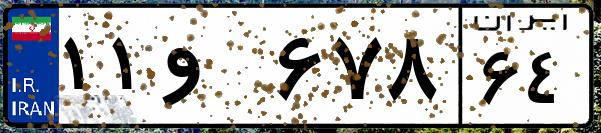1: (57, 26, 110, 100), (110, 28, 158, 98)
4: (525, 38, 570, 115)
6: (270, 28, 330, 110), (475, 38, 525, 113)
7: (330, 28, 385, 110)
8: (385, 28, 445, 110)
و: (158, 20, 270, 120)
